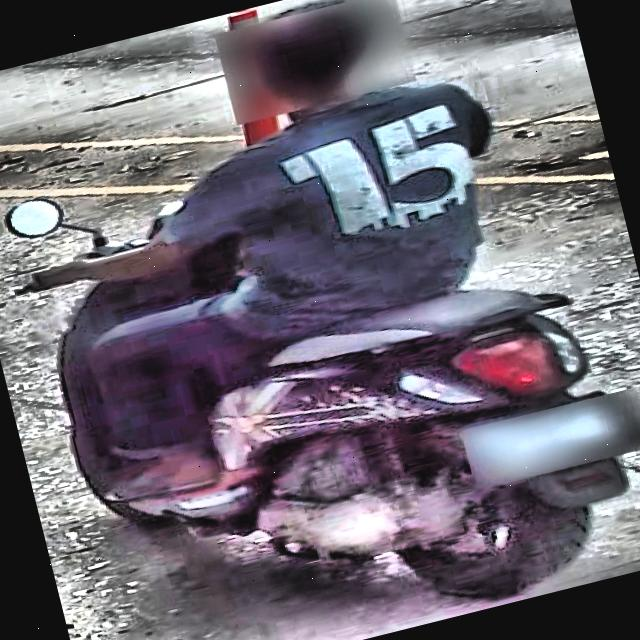motorcycle: (7, 66, 640, 640)
